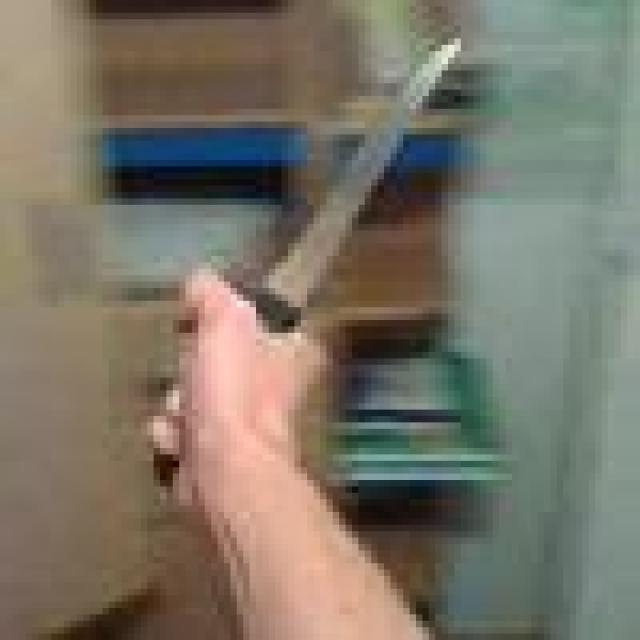knife: (256, 42, 460, 309)
